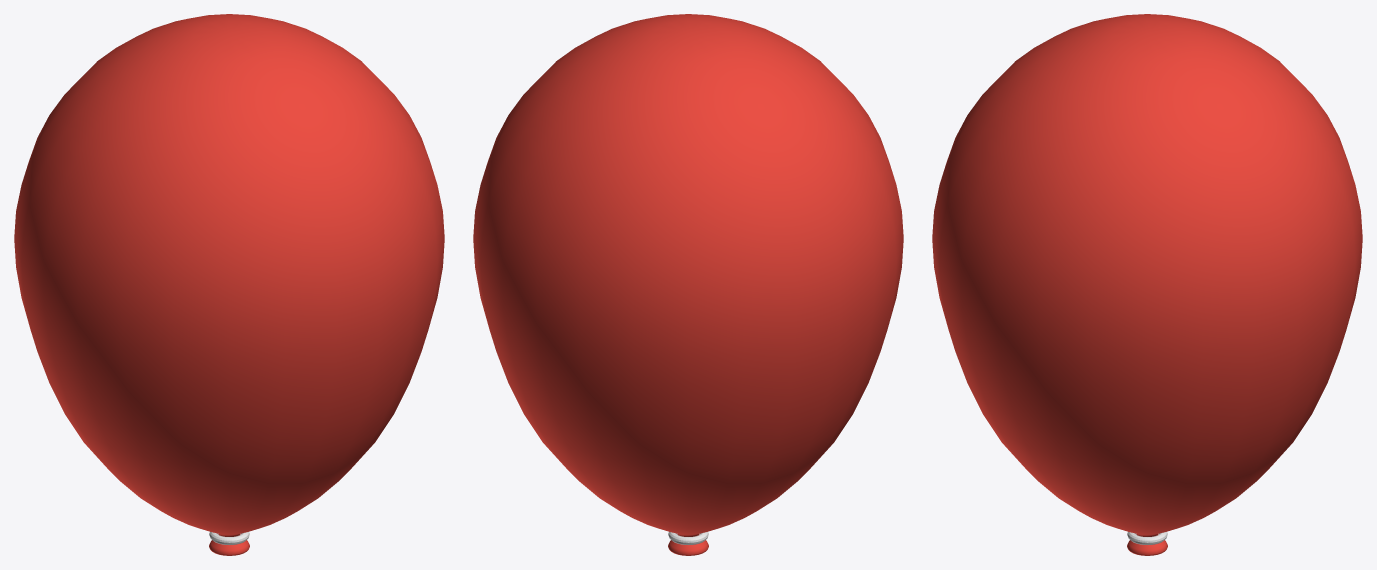
File: Balloon.fbx
3 renders of one model, left to right at view 1: azimuth 30°, elevation 25°; view 2: azimuth 150°, elevation 25°; view 3: azimuth 270°, elevation 25°, orthographic.
Parts seen in each view (by area): view 1: Sphere; view 2: Sphere; view 3: Sphere.
Part boxes in pixels (x1=…): Sphere: x1=14, y1=14, x2=444, y2=555; Sphere: x1=473, y1=14, x2=903, y2=555; Sphere: x1=932, y1=14, x2=1362, y2=555.
Bounding box in the file's own units: 189 × 249 × 189.
